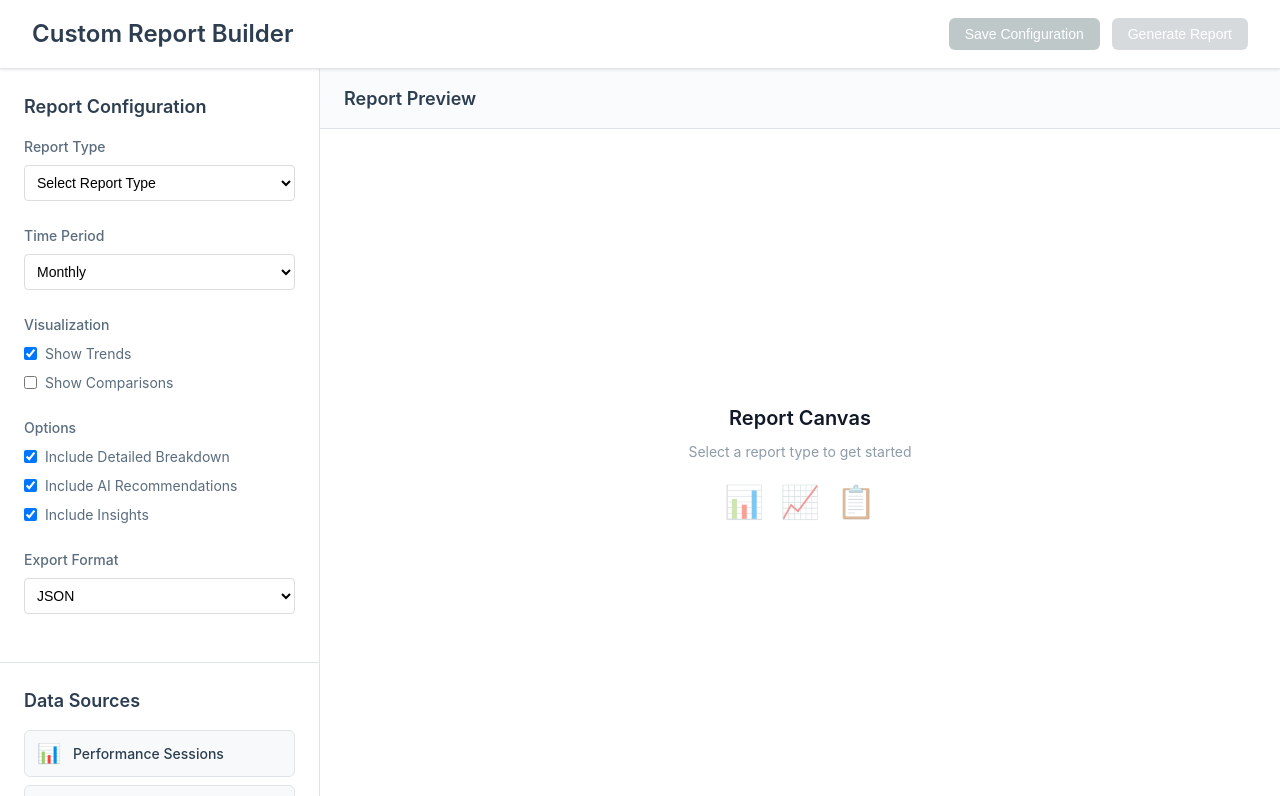
ReportBuilder › displays validation errors
This screenshot has width=1280, height=796.
Note: Configure report
Select "Student Progress" in the dropdown showing "Select Report Type" at (160, 183), box x1=24 y1=165 x2=295 y2=201
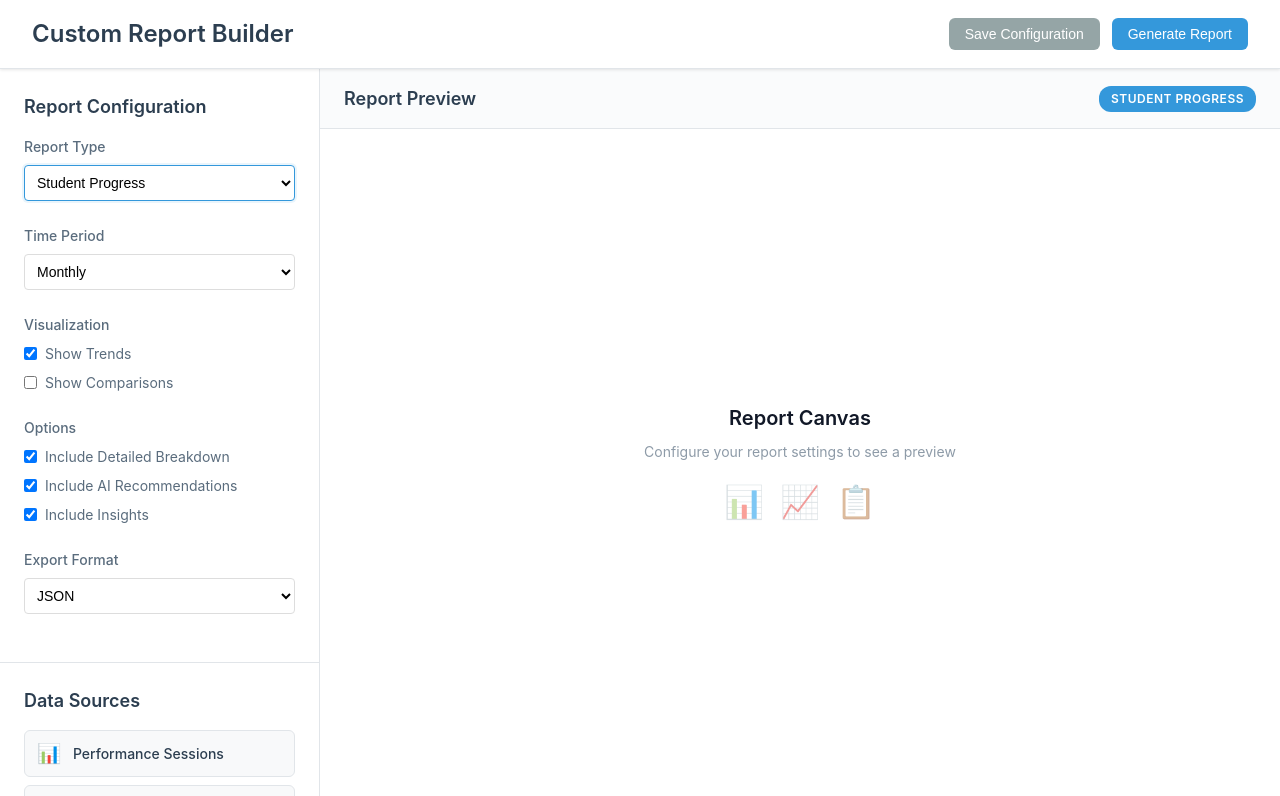
Note: Click generate button
Click the button "Generate Report" at (1180, 34), box x1=1112 y1=18 x2=1248 y2=50
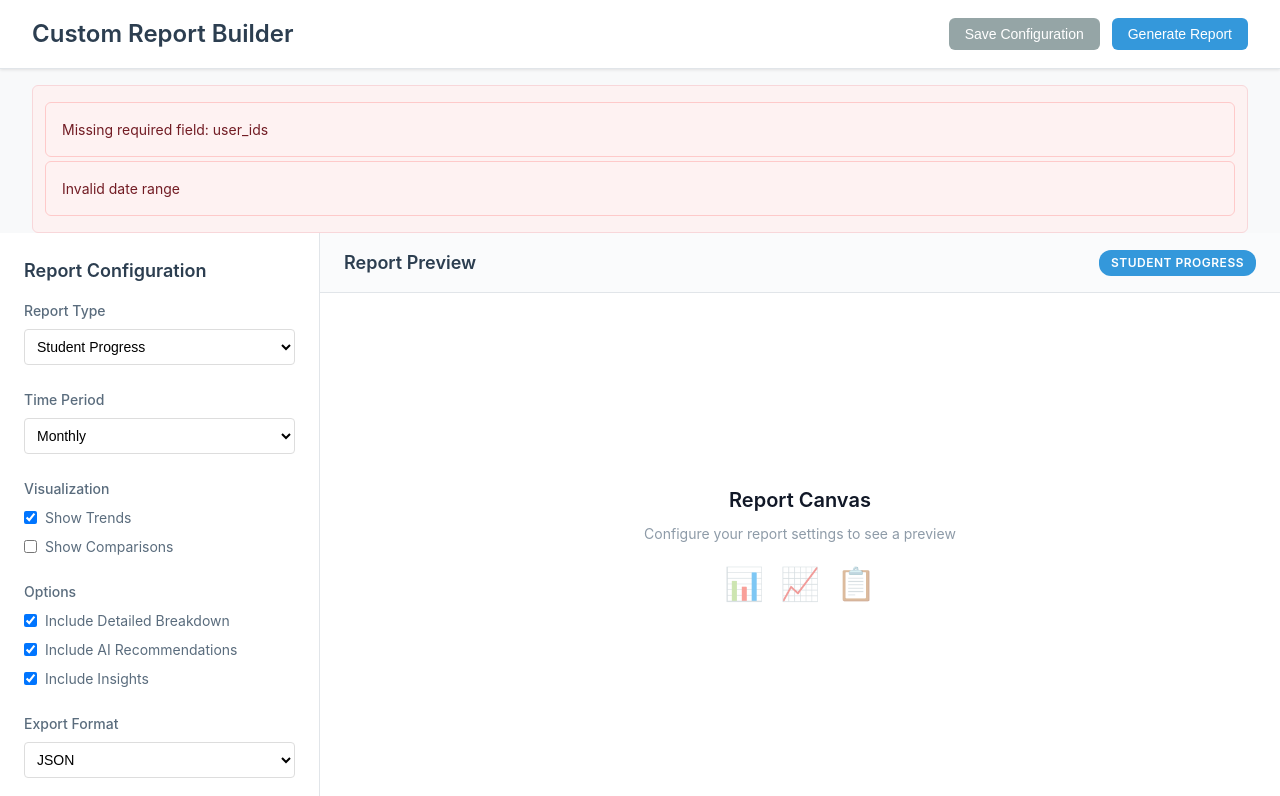
Result: the text "Missing required field: user_ids" is shown at x1=45 y1=102 x2=1235 y2=157
Result: the text "Invalid date range" is shown at x1=45 y1=161 x2=1235 y2=216
